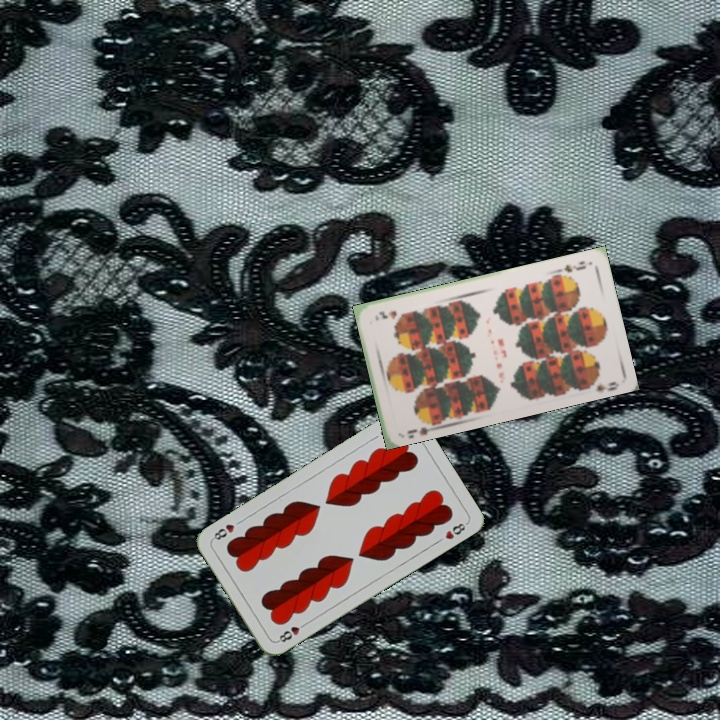H8: (273, 618, 310, 645)
S9: (403, 415, 438, 437), (553, 257, 588, 279)
